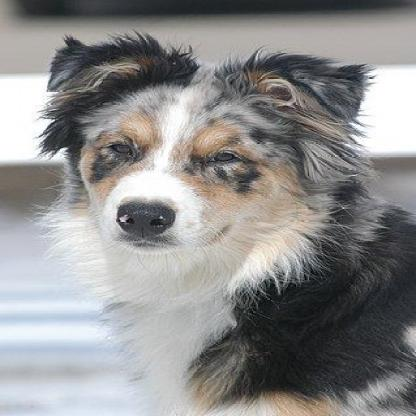Border_collie: (31, 27, 412, 413)
